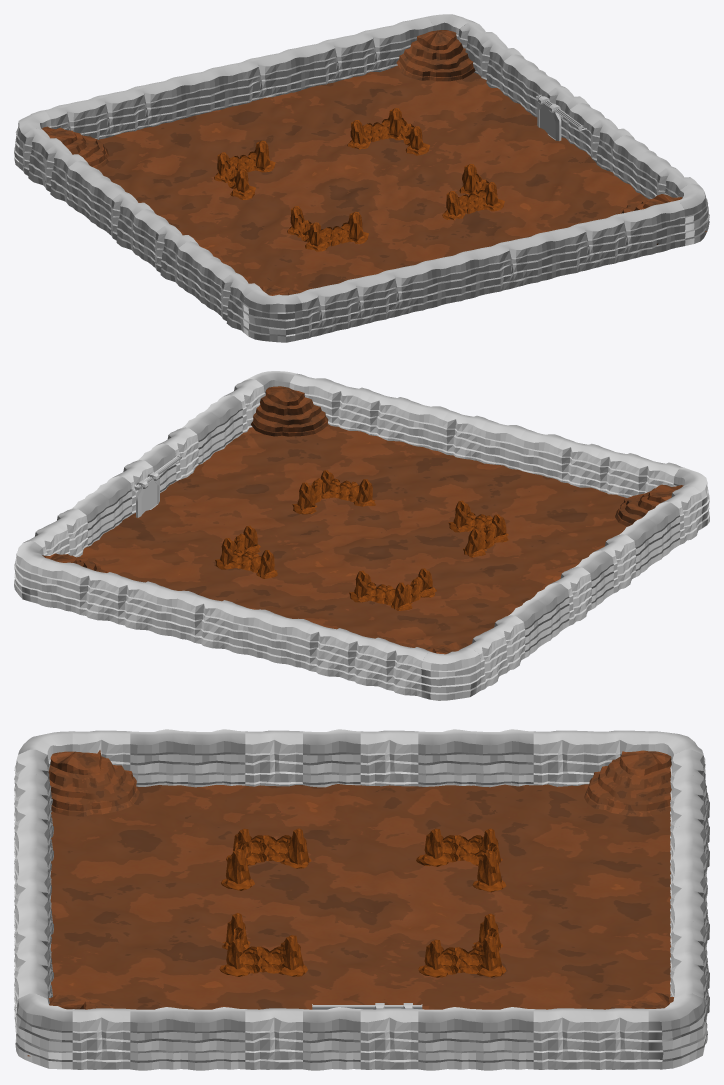
Rendered from level1_boss.fbx.
The picture shows the model from 3 angles, top to bottom: view 1: azimuth 30°, elevation 25°; view 2: azimuth 150°, elevation 25°; view 3: azimuth 270°, elevation 25°; orthographic projection. The views are drawn at different scales.
Visible parts, largest first — view 1: Floor, level1_wall16, Pyramid006, GeoSphere006, GeoSphere057, level1_door; view 2: Floor, level1_wall16, Pyramid006, GeoSphere006, GeoSphere057, level1_door; view 3: Floor, level1_wall16, Pyramid006, GeoSphere006, GeoSphere057.
Boxes of the visible parts, x1=… form: Floor: x1=97, y1=65, x2=706, y2=292; level1_wall16: x1=14, y1=14, x2=709, y2=342; Pyramid006: x1=42, y1=30, x2=682, y2=295; GeoSphere006: x1=214, y1=118, x2=504, y2=251; GeoSphere057: x1=217, y1=108, x2=497, y2=246; level1_door: x1=537, y1=96, x2=561, y2=141; Floor: x1=77, y1=424, x2=626, y2=648; level1_wall16: x1=14, y1=371, x2=709, y2=700; Pyramid006: x1=42, y1=386, x2=683, y2=654; GeoSphere006: x1=215, y1=478, x2=508, y2=610; GeoSphere057: x1=220, y1=470, x2=506, y2=609; level1_door: x1=136, y1=472, x2=159, y2=517; Floor: x1=27, y1=784, x2=670, y2=1056; level1_wall16: x1=14, y1=729, x2=709, y2=1070; Pyramid006: x1=48, y1=750, x2=673, y2=1009; GeoSphere006: x1=219, y1=835, x2=506, y2=977; GeoSphere057: x1=226, y1=828, x2=501, y2=970.
Size of the model in its own units: 1907 by 172 by 1903.
